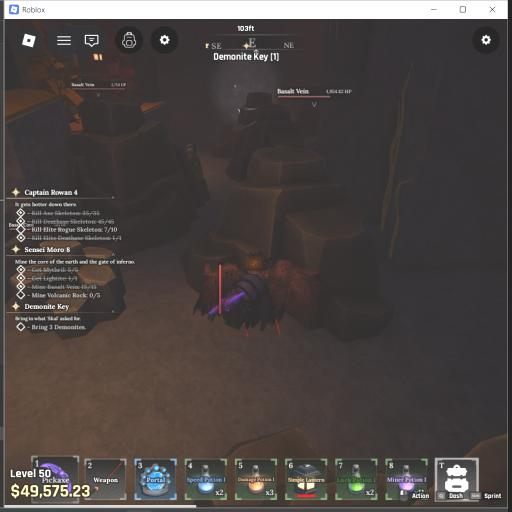player: (221, 251, 320, 330), (194, 265, 219, 321)
rock: (189, 146, 392, 341), (73, 100, 203, 252), (4, 241, 126, 340), (212, 93, 304, 181), (226, 278, 228, 280)
